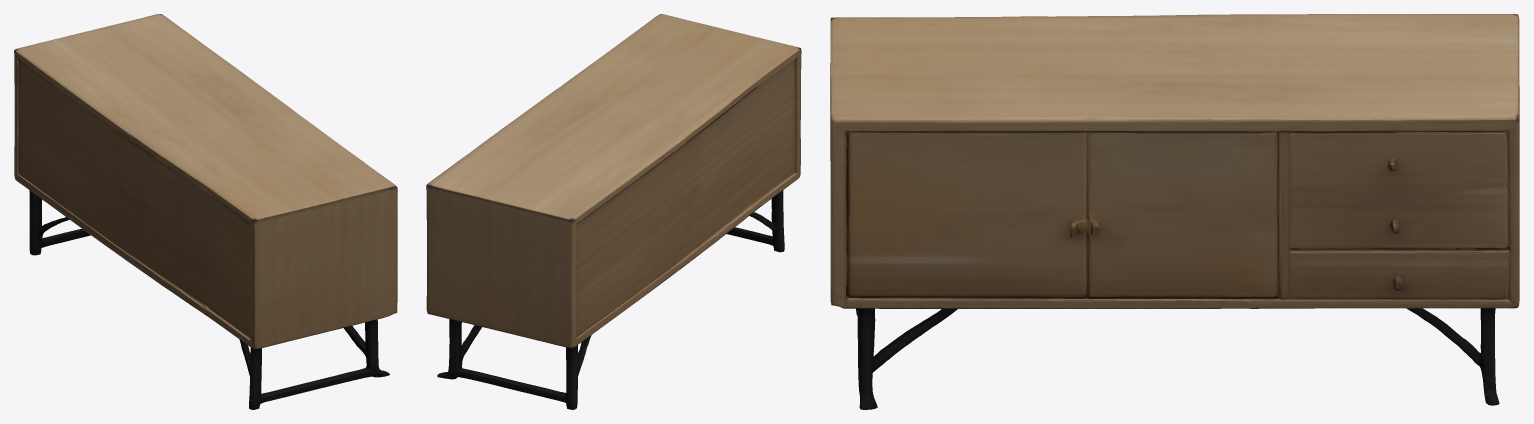
Rendered from 003_cabinet-001_local_pivot.glb.
3 renders of one model, left to right at view 1: azimuth 30°, elevation 25°; view 2: azimuth 150°, elevation 25°; view 3: azimuth 270°, elevation 25°, orthographic. The views are drawn at different scales.
Visible parts, largest first — view 1: world; view 2: world; view 3: world.
Part boxes in pixels (x1,y1,x2,y2): world: [14, 14, 397, 409]; world: [426, 14, 801, 409]; world: [830, 14, 1519, 409].
Bounding box in the file's own units: 0.2167 × 0.2626 × 0.5615.
Materials: 1 (1 with a texture image).
